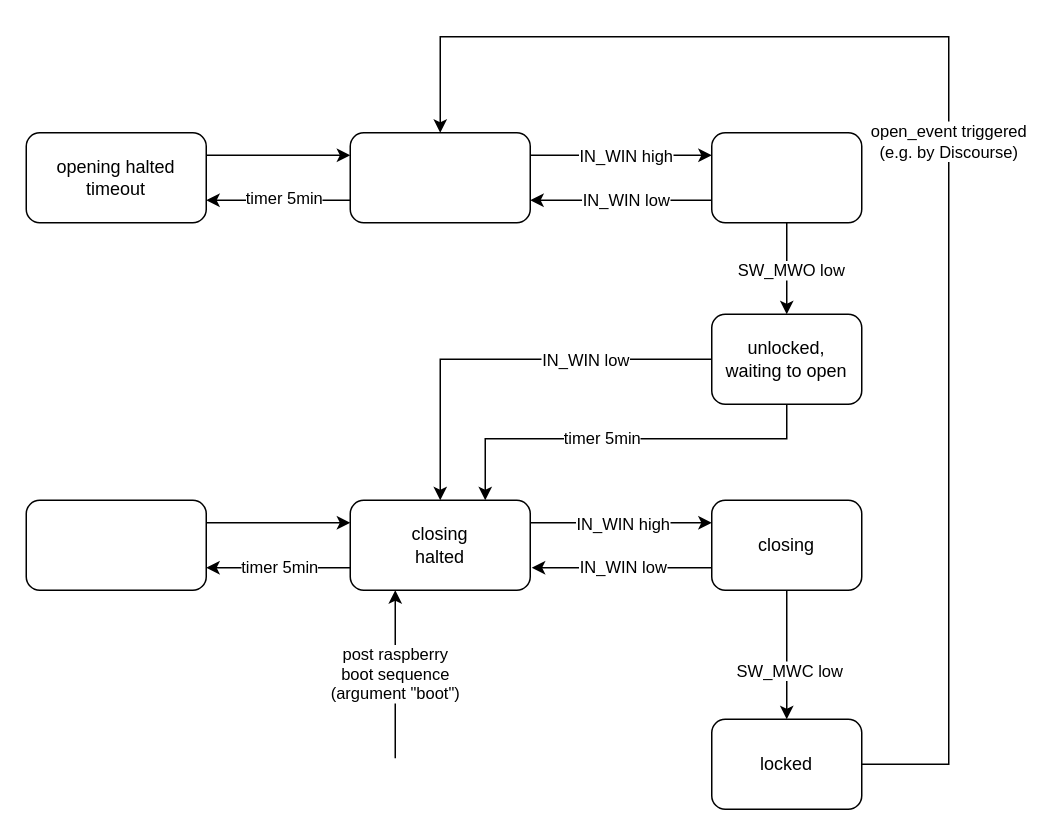
The diagram is 1053 pixels wide and 836 high, and some of its shapes have lost their labels. Each missing label, with the box of its shape:
closing halted timeout: (25, 499, 206, 590)
opening: (710, 131, 862, 223)
opening halted: (349, 131, 530, 223)
